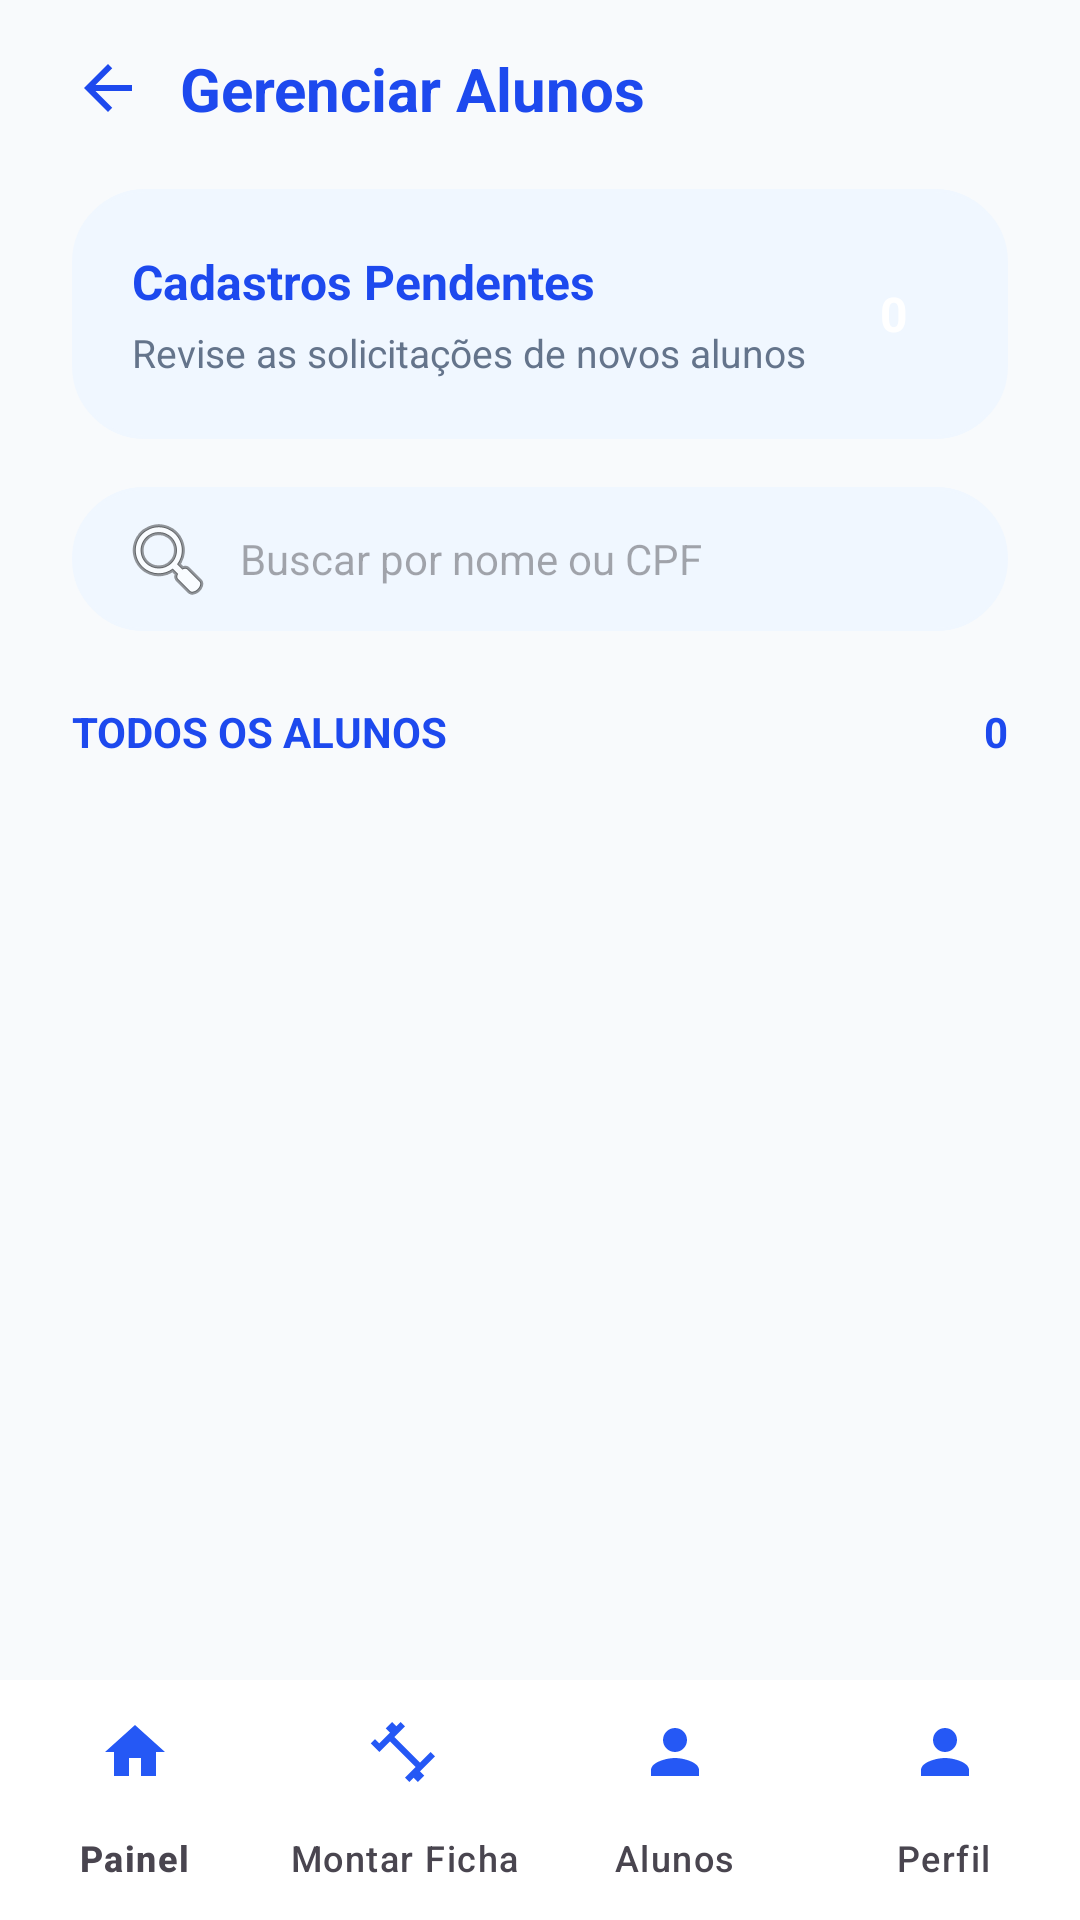

Screen size 1080x1920. Icon name, then its box in pixels as (x1, y1, x2, y2):
arrow back: (84, 64, 132, 112)
